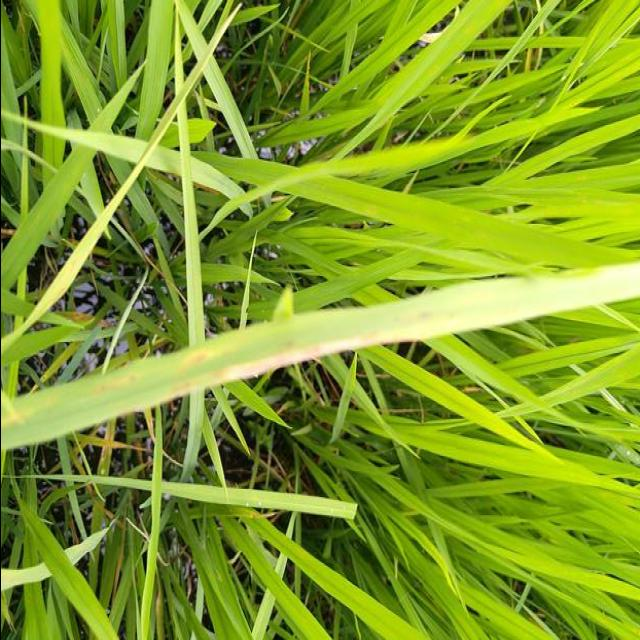Leaf Blight: (0, 266, 640, 449)
